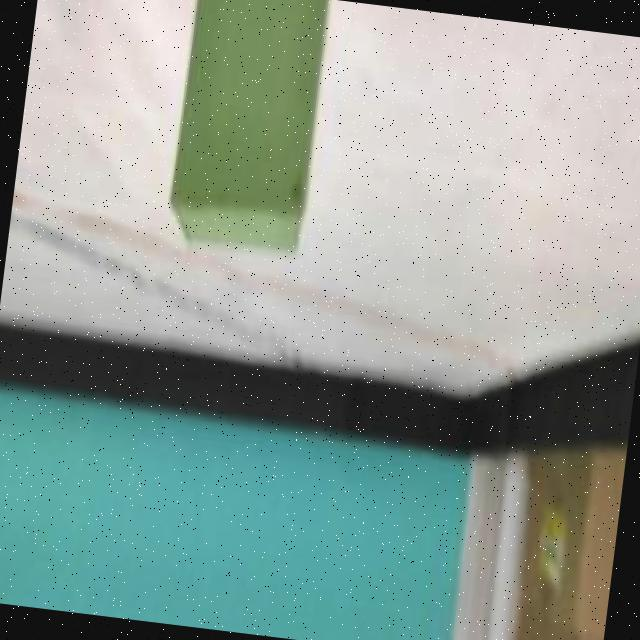greenbox: (157, 0, 328, 268)
